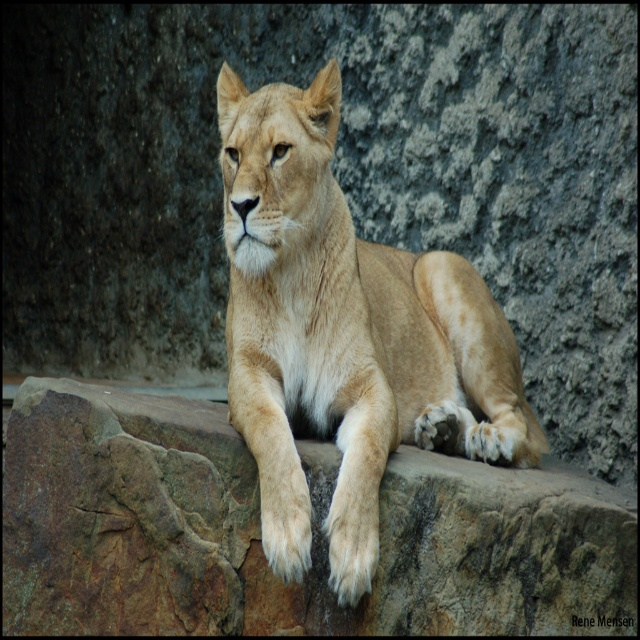Lion: (213, 58, 551, 609)
